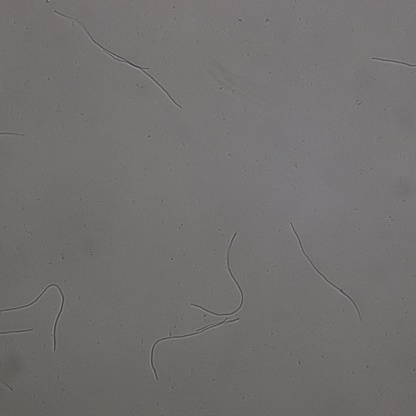Sensitive: (292, 223, 362, 318), (150, 318, 239, 381), (56, 10, 149, 70), (1, 282, 65, 352), (191, 233, 243, 317), (106, 55, 181, 107)
